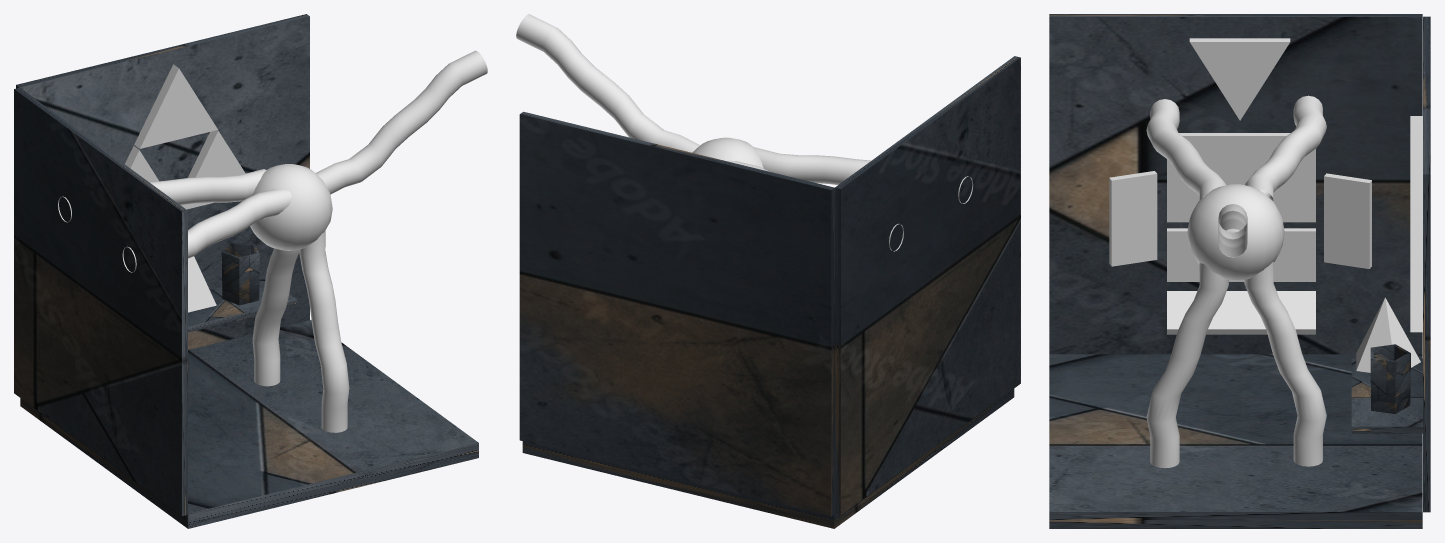
File: D_Cyberpunk.fbx
3 renders of one model, left to right at view 1: azimuth 30°, elevation 25°; view 2: azimuth 150°, elevation 25°; view 3: azimuth 270°, elevation 25°, orthographic. The views are drawn at different scales.
Parts seen in each view (by area): view 1: Cube.004, Cube.005, Cube.003, Cylinder.004, Cylinder.006, Cylinder, Cube, Cone; view 2: Cube.003, Cube.004, Cylinder.004, Cube.005; view 3: Cube.004, Cube.005, Cylinder.004, Cube.001, Cylinder.006, Cube.003, Cube, Cylinder, Cone.
Boxes of the visible parts, bbox=[...] form: Cube.004: bbox=[14, 87, 187, 515]; Cube.005: bbox=[20, 320, 478, 528]; Cube.003: bbox=[16, 14, 309, 349]; Cylinder.004: bbox=[58, 50, 487, 432]; Cylinder.006: bbox=[125, 64, 245, 209]; Cylinder: bbox=[221, 243, 259, 305]; Cube: bbox=[188, 276, 297, 332]; Cone: bbox=[188, 256, 216, 312]; Cube.003: bbox=[519, 111, 834, 516]; Cube.004: bbox=[835, 56, 1020, 515]; Cylinder.004: bbox=[516, 14, 973, 251]; Cube.005: bbox=[522, 389, 1014, 528]; Cube.004: bbox=[1049, 14, 1422, 354]; Cube.005: bbox=[1049, 354, 1422, 528]; Cylinder.004: bbox=[1146, 95, 1326, 468]; Cube.001: bbox=[1109, 133, 1371, 334]; Cylinder.006: bbox=[1189, 38, 1422, 332]; Cube.003: bbox=[1423, 16, 1430, 512]; Cube: bbox=[1351, 358, 1422, 433]; Cylinder: bbox=[1370, 344, 1410, 413]; Cone: bbox=[1356, 297, 1420, 372].
Size of the model in its own units: 2648 by 2144 by 2042.
